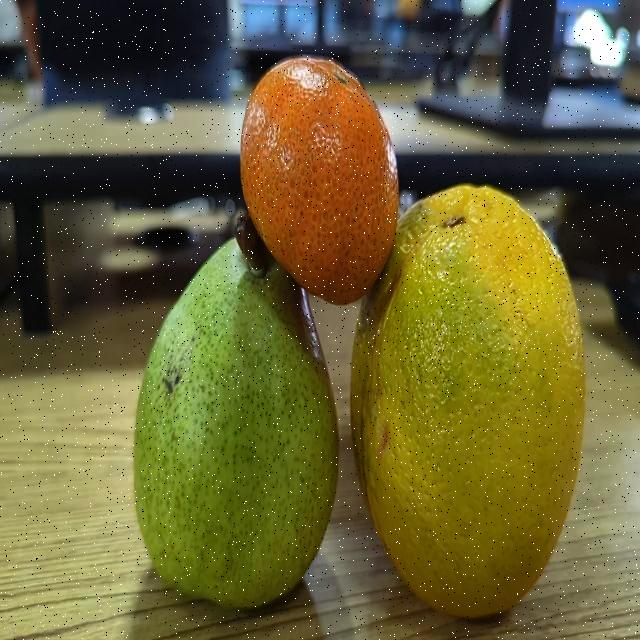Jeruk: (350, 183, 588, 626)
Jeruk Mandarin: (236, 46, 404, 308)
Pir: (128, 212, 344, 616)
